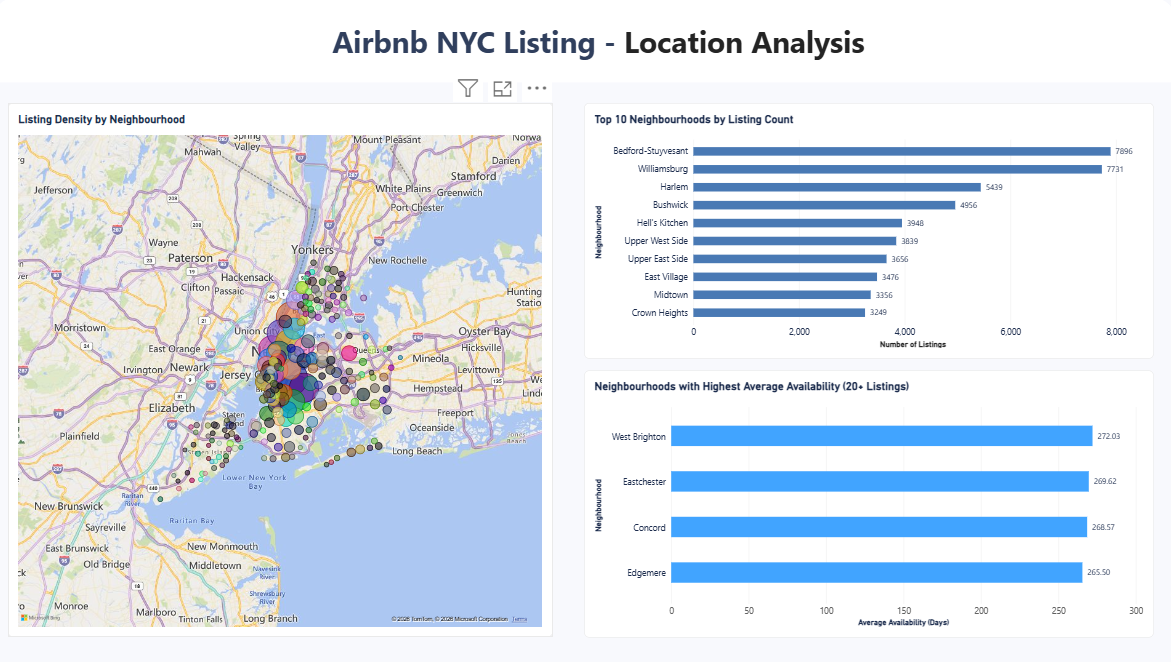

This screenshot's page, from the dashboard's own definition file:
{"tool":"powerbi","page":{"name":"Location Analysis","canvas":[1920,1080],"ordinal":1},"visuals":[{"type":"shape","box":[0,0,1920,137.5],"z":0},{"type":"textbox","box":[100,115,300,285],"z":1000},{"type":"textbox","box":[342.5,37.5,1280,100],"z":2000},{"type":"map","title":"Listing Density by Neighbourhood","fields":{"Category":["project_airbnb airbnb_listings.neighbourhood"],"Y":["Avg(project_airbnb airbnb_listings.latitude)"],"X":["Avg(project_airbnb airbnb_listings.longitude)"],"Series":["project_airbnb airbnb_listings.neighbourhood"],"Size":["CountNonNull(project_airbnb airbnb_listings.id)"]},"box":[25,170,885,867.5],"z":3000},{"type":"clusteredBarChart","title":"Top 10 Neighbourhoods by Listing Count","fields":{"Category":["project_airbnb airbnb_listings.neighbourhood"],"Y":["CountNonNull(project_airbnb airbnb_listings.id)"]},"box":[960,170,925,415],"z":4000},{"type":"clusteredBarChart","title":"Neighbourhoods with Highest Average Availability (20+ Listings)","fields":{"Category":["project_airbnb airbnb_listings.neighbourhood"],"Y":["Avg(project_airbnb airbnb_listings.availability_365)"]},"box":[960,605,925,433.3],"z":5000}]}

Visuals, with their boxes in screenshot pixels (x1, y1, x2, y2), scaled from the page's 1920x1080 canvas onto the 1171x662 screenshot:
shape: (left=0, top=0, right=1170, bottom=84)
textbox: (left=61, top=70, right=244, bottom=245)
textbox: (left=209, top=23, right=990, bottom=84)
"Listing Density by Neighbourhood" map: (left=15, top=104, right=555, bottom=636)
"Top 10 Neighbourhoods by Listing Count" clusteredBarChart: (left=586, top=104, right=1150, bottom=359)
"Neighbourhoods with Highest Average Availability (20+ Listings)" clusteredBarChart: (left=586, top=371, right=1150, bottom=636)
